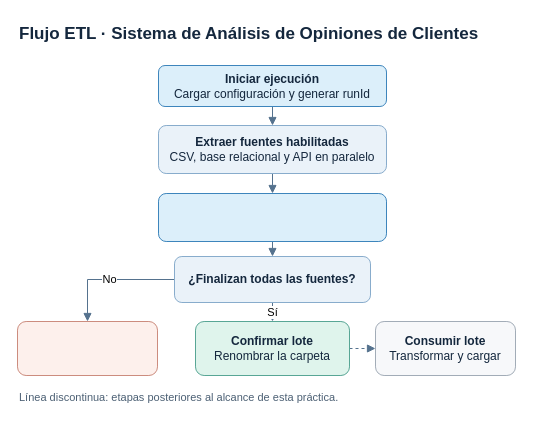
Image size: 540x426. Some labels were removed from this diagram. Here are the shapes that lost their labels. From the top down, the centre of each, then its label:
At point (272, 217): "Escribir archivos temporales Validar el formato básico y contar filas".
At point (87, 348): "Registrar fallo Descartar temporales".
